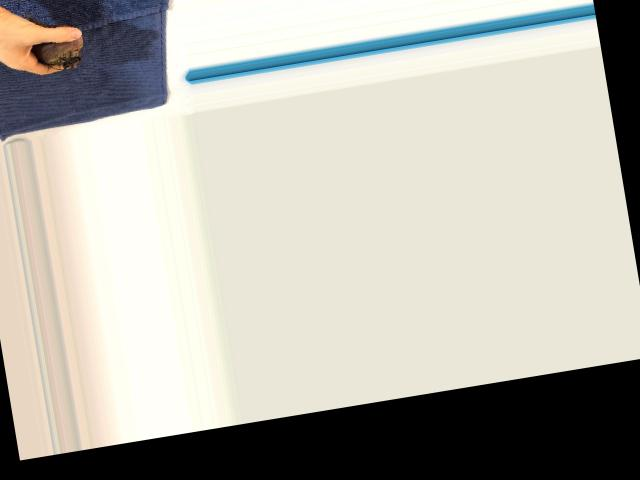beet: (26, 4, 88, 73)
